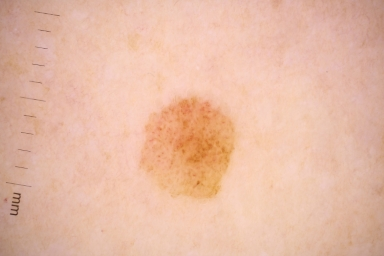nevus: (145, 99, 236, 200)
